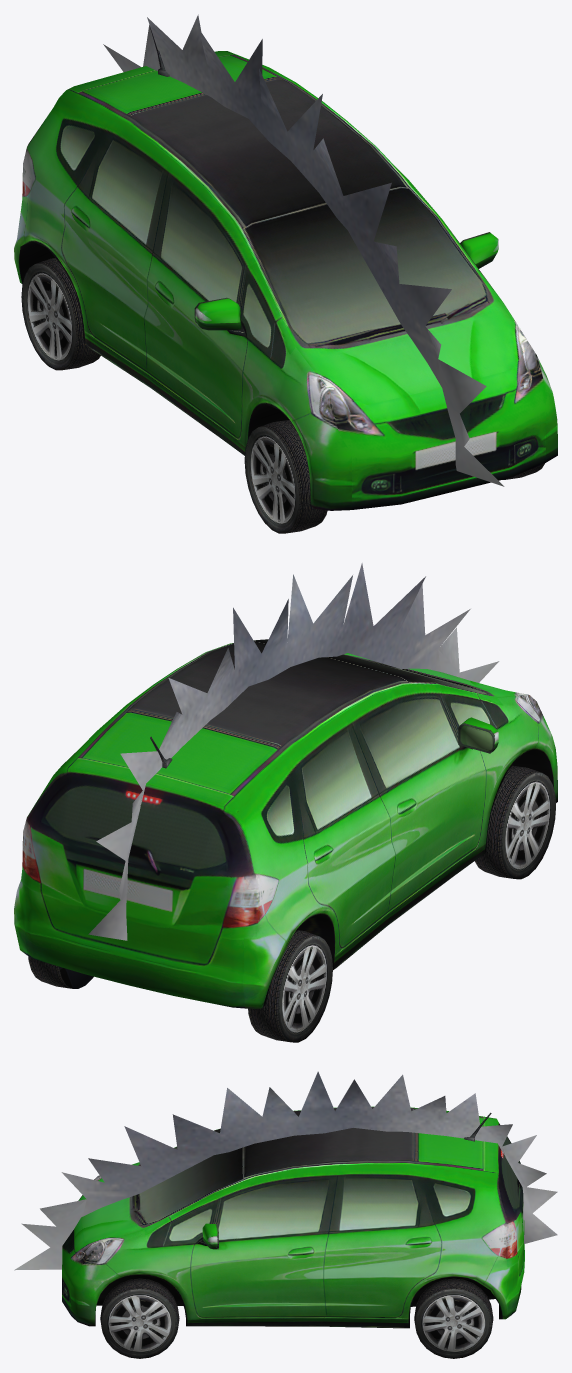
File: 11_honda_jazz_saw.glb
3 renders of one model, top to bottom at view 1: azimuth 30°, elevation 25°; view 2: azimuth 150°, elevation 25°; view 3: azimuth 270°, elevation 25°, orthographic. The views are drawn at different scales.
Visible parts, largest first — view 1: jazz_70, saw_69, jazz_wheel.001_66, jazz_wheel.003_68; view 2: jazz_70, saw_69, jazz_wheel.001_66, jazz_wheel.003_68, jazz_wheel.002_67; view 3: jazz_70, saw_69, jazz_wheel_65, jazz_wheel.002_67.
Boxes of the visible parts, x1,y1,x2,y2 form: jazz_70: (14, 27, 557, 510); saw_69: (103, 14, 504, 486); jazz_wheel.001_66: (244, 420, 327, 533); jazz_wheel.003_68: (21, 258, 100, 370); jazz_70: (14, 639, 557, 1008); saw_69: (88, 563, 499, 940); jazz_wheel.001_66: (474, 765, 555, 879); jazz_wheel.003_68: (248, 930, 332, 1042); jazz_wheel.002_67: (28, 956, 93, 988); jazz_70: (62, 1106, 524, 1328); saw_69: (14, 1071, 557, 1270); jazz_wheel_65: (100, 1278, 179, 1358); jazz_wheel.002_67: (414, 1278, 493, 1358).
Size of the model in its own units: 2.21 by 2.44 by 4.94.
1 material, 1 textured.
